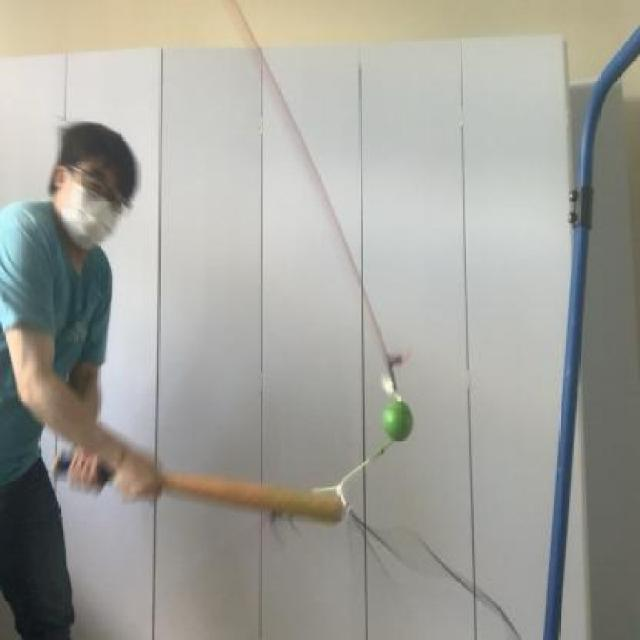baseball: (378, 391, 419, 449)
